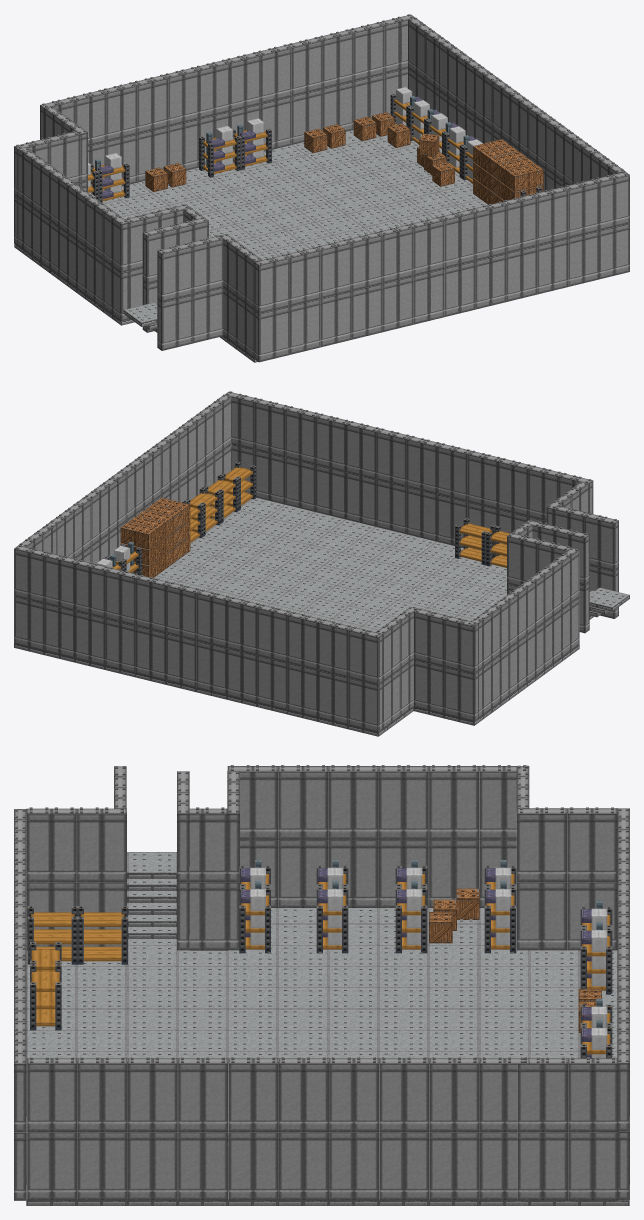
Rendered from Basement battle field v2.fbx.
3 views of the same model, one above another, from view 1: azimuth 30°, elevation 25°; view 2: azimuth 150°, elevation 25°; view 3: azimuth 270°, elevation 25° (orthographic). The views are drawn at different scales.
Visible parts, largest first — view 1: cube.188; view 2: cube.188; view 3: cube.188.
Part boxes in pixels (box(x1,y1,x2,y2)): cube.188: box(14, 14, 629, 362); cube.188: box(14, 391, 629, 736); cube.188: box(14, 765, 629, 1205).
Size of the model in its own units: 2901 by 631 by 2450.
